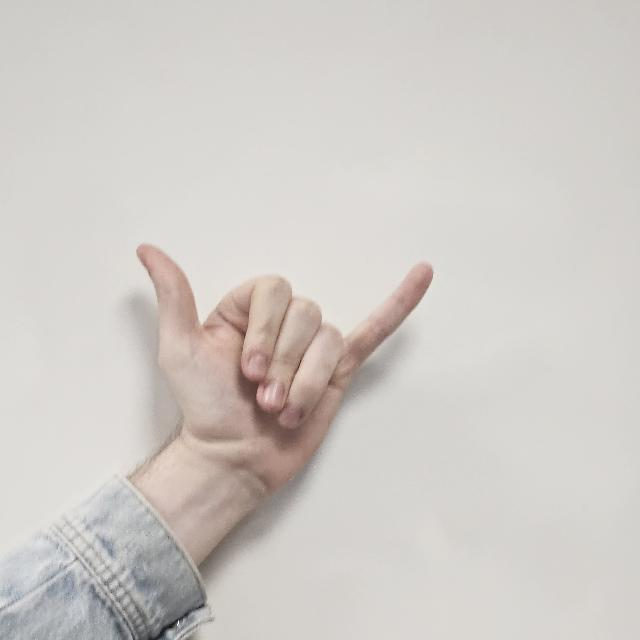Direita: (132, 240, 432, 508)
